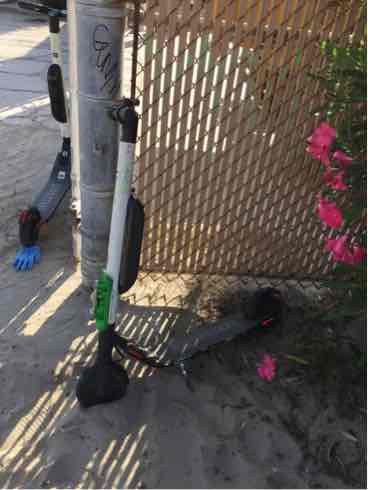scooter: (75, 85, 293, 411), (13, 1, 87, 254)
